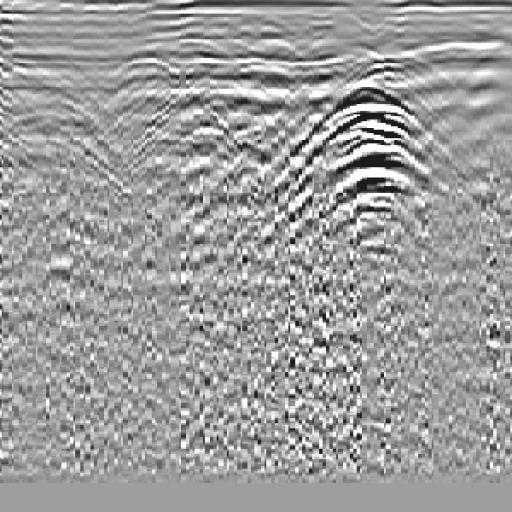metalic: (284, 69, 449, 265)
